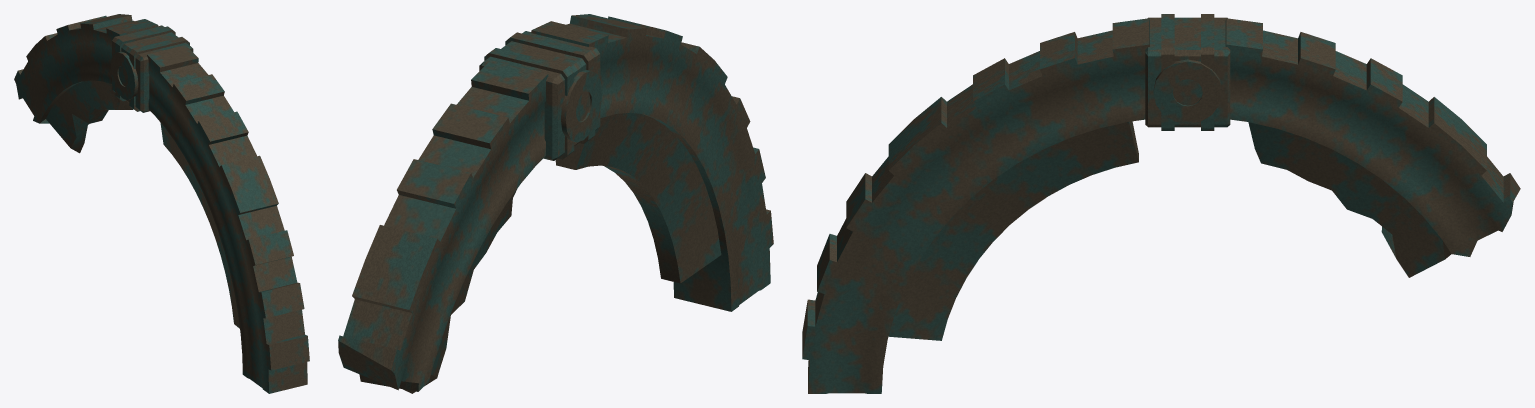
The model's file is BigGearBroken.fbx.
3 views of the same model, side by side, from view 1: azimuth 30°, elevation 25°; view 2: azimuth 150°, elevation 25°; view 3: azimuth 270°, elevation 25° (orthographic). The views are drawn at different scales.
Visible parts, largest first — view 1: BigGearBroken.001; view 2: BigGearBroken.001; view 3: BigGearBroken.001.
Part boxes in pixels (left/top/right/bottom): BigGearBroken.001: left=14, top=14, right=309, bottom=393; BigGearBroken.001: left=338, top=14, right=773, bottom=393; BigGearBroken.001: left=802, top=14, right=1520, bottom=393.
Size of the model in its own units: 6.15 by 24.78 by 46.11.
1 material, 1 textured.
